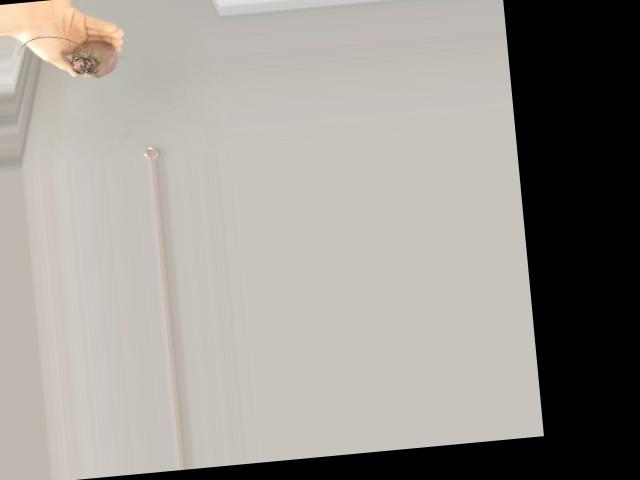beet: (17, 27, 132, 84)
